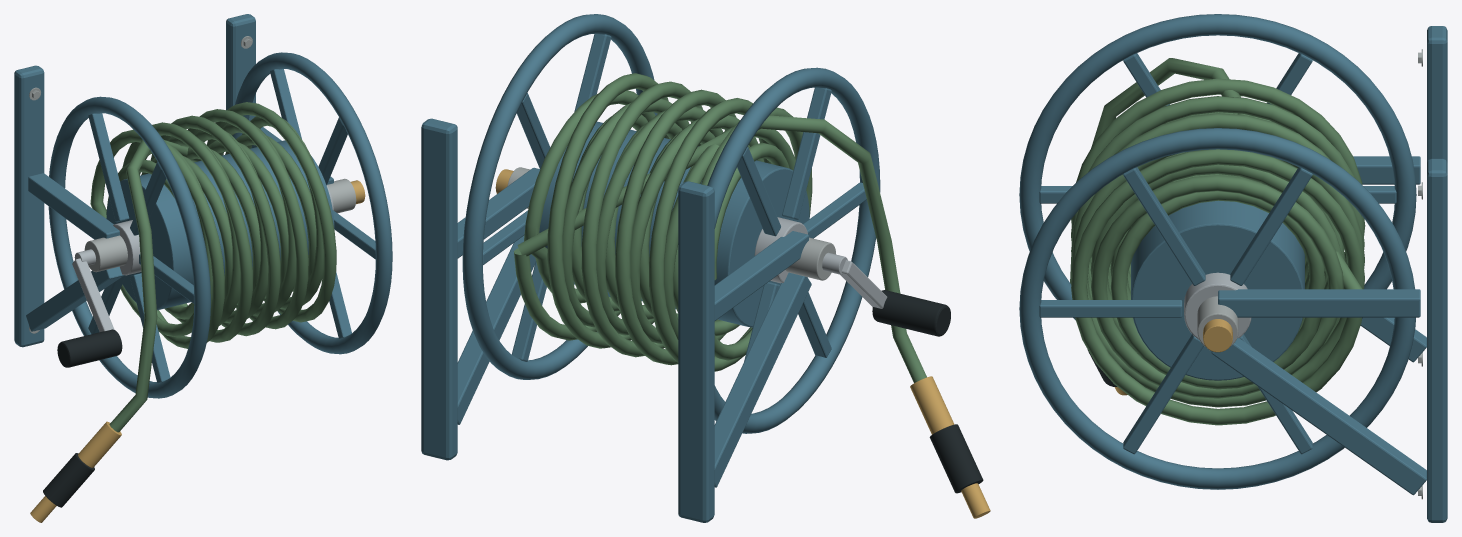
Rendered from city-wall-irrigation-hose-reel.glb.
3 renders of one model, left to right at view 1: azimuth 30°, elevation 25°; view 2: azimuth 150°, elevation 25°; view 3: azimuth 270°, elevation 25°, orthographic. The views are drawn at different scales.
Visible parts, largest first — view 1: Assembly | Dusty blue powder coat, Assembly | Garden green hose polymer, Assembly | Soft charcoal rubber, Assembly | Brushed stainless steel, Assembly | Galvanized hardware, Assembly | Hose coupling brass; view 2: Assembly | Dusty blue powder coat, Assembly | Garden green hose polymer, Assembly | Soft charcoal rubber, Assembly | Hose coupling brass, Assembly | Brushed stainless steel, Assembly | Galvanized hardware; view 3: Assembly | Dusty blue powder coat, Assembly | Garden green hose polymer, Assembly | Brushed stainless steel, Assembly | Galvanized hardware, Assembly | Hose coupling brass.
Boxes of the visible parts, left/top/right/bottom form: Assembly | Dusty blue powder coat: left=14, top=14, right=392, bottom=398; Assembly | Garden green hose polymer: left=90, top=102, right=336, bottom=432; Assembly | Soft charcoal rubber: left=43, top=329, right=122, bottom=507; Assembly | Brushed stainless steel: left=72, top=185, right=333, bottom=331; Assembly | Galvanized hardware: left=29, top=36, right=356, bottom=333; Assembly | Hose coupling brass: left=30, top=180, right=365, bottom=522; Assembly | Dusty blue powder coat: left=421, top=14, right=880, bottom=522; Assembly | Garden green hose polymer: left=513, top=73, right=926, bottom=382; Assembly | Soft charcoal rubber: left=872, top=290, right=983, bottom=493; Assembly | Hose coupling brass: left=495, top=169, right=990, bottom=518; Assembly | Brushed stainless steel: left=754, top=217, right=887, bottom=308; Assembly | Galvanized hardware: left=507, top=167, right=835, bottom=280; Assembly | Dusty blue powder coat: left=1019, top=14, right=1447, bottom=522; Assembly | Garden green hose polymer: left=1070, top=58, right=1365, bottom=425; Assembly | Brushed stainless steel: left=1184, top=272, right=1251, bottom=339; Assembly | Galvanized hardware: left=1197, top=49, right=1422, bottom=499; Assembly | Hose coupling brass: left=1114, top=319, right=1232, bottom=395.
Bounding box in the file's own units: 0.6547 × 0.6118 × 0.5175.
